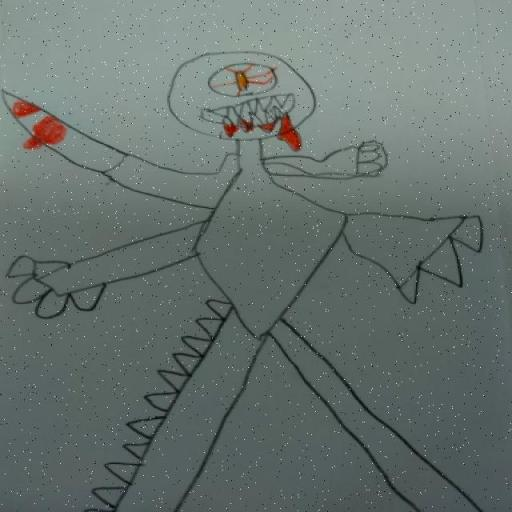person: (8, 23, 488, 511)
